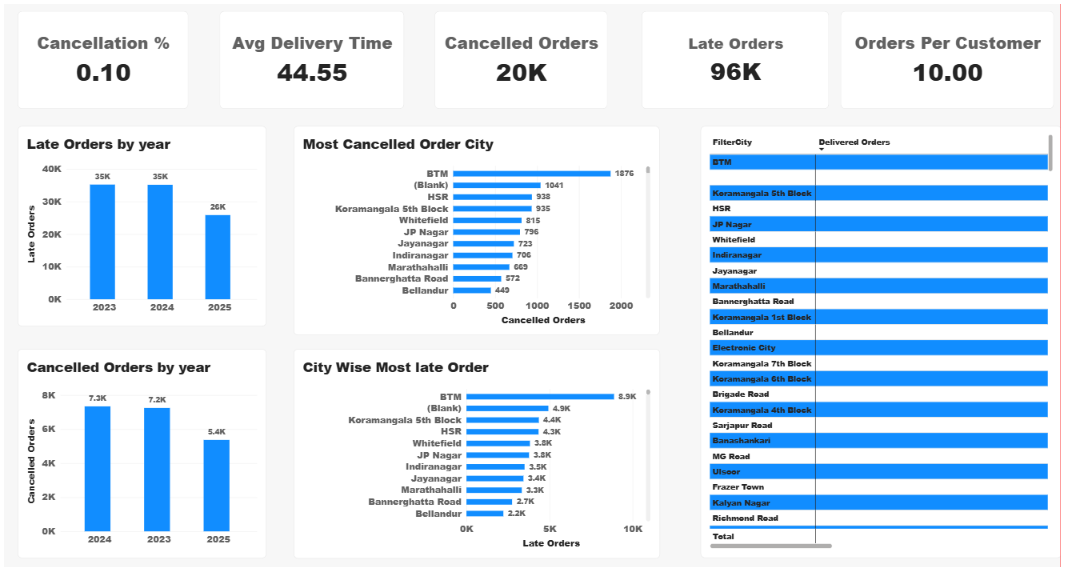

This screenshot's page, from the dashboard's own definition file:
{"tool":"powerbi","page":{"name":"Customer Analysis Dashboard","canvas":[1920,1080],"ordinal":2},"visuals":[{"type":"columnChart","fields":{"Category":["Orders.year"],"Y":["Customers.Late Orders"]},"box":[28.8,257.3,450.8,362.3],"z":0},{"type":"clusteredColumnChart","fields":{"Category":["Orders.year"],"Y":["Customers.Cancelled Orders"]},"box":[28.8,660.7,450.8,378.7],"z":1000},{"type":"cardVisual","fields":{"Data":["Customers.Cancellation %"]},"box":[29,48.9,309.5,177.3],"z":2000},{"type":"cardVisual","fields":{"Data":["Orders.Avg Delivery Time"]},"box":[394.5,48.9,334.8,177.3],"z":3000},{"type":"cardVisual","fields":{"Data":["Customers.Cancelled Orders"]},"box":[783.6,48.9,313.1,177.3],"z":4000},{"type":"cardVisual","fields":{"Data":["Customers.Late Orders"]},"box":[1158.8,49.4,339.6,177],"z":5000},{"type":"cardVisual","fields":{"Data":["Customers.Orders Per Customer"]},"box":[1519,49.4,387,177],"z":10000},{"type":"pivotTable","fields":{"Rows":["Customers.FilterCity"],"Values":["Orders.Delivered Orders","Avg(Orders.DeliveryTimeMins)","Customers.Late Orders","Customers.Cancelled Orders"]},"box":[1265,257,655.1,781.8],"z":10001},{"type":"barChart","title":"Most Cancelled Order City","fields":{"Category":["Customers.FilterCity"],"Y":["Customers.Cancelled Orders"]},"box":[529,257.3,662.8,378.7],"z":10002},{"type":"barChart","title":"City Wise Most late Order","fields":{"Category":["Customers.FilterCity"],"Y":["Customers.Late Orders"]},"box":[529,661,663,379],"z":10003}]}

Visuals, with their boxes on the page's 1920x1080 design canvas (x1, y1, x2, y2). These are canvas units, not pixel positions in the 1065x571 screenshot, which may show the page scaled, cropped or inside an application window:
columnChart - Orders.year x Customers.Late Orders: (29, 257, 480, 620)
clusteredColumnChart - Orders.year x Customers.Cancelled Orders: (29, 661, 480, 1039)
cardVisual - Customers.Cancellation %: (29, 49, 338, 226)
cardVisual - Orders.Avg Delivery Time: (394, 49, 729, 226)
cardVisual - Customers.Cancelled Orders: (784, 49, 1097, 226)
cardVisual - Customers.Late Orders: (1159, 49, 1498, 226)
cardVisual - Customers.Orders Per Customer: (1519, 49, 1906, 226)
pivotTable - Customers.FilterCity x Orders.Delivered Orders: (1265, 257, 1920, 1039)
"Most Cancelled Order City" barChart: (529, 257, 1192, 636)
"City Wise Most late Order" barChart: (529, 661, 1192, 1040)
